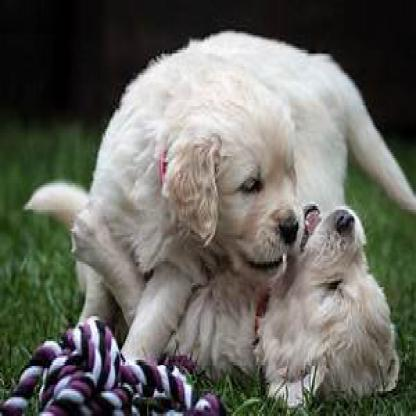dog: (64, 210, 403, 408), (101, 50, 359, 283)
